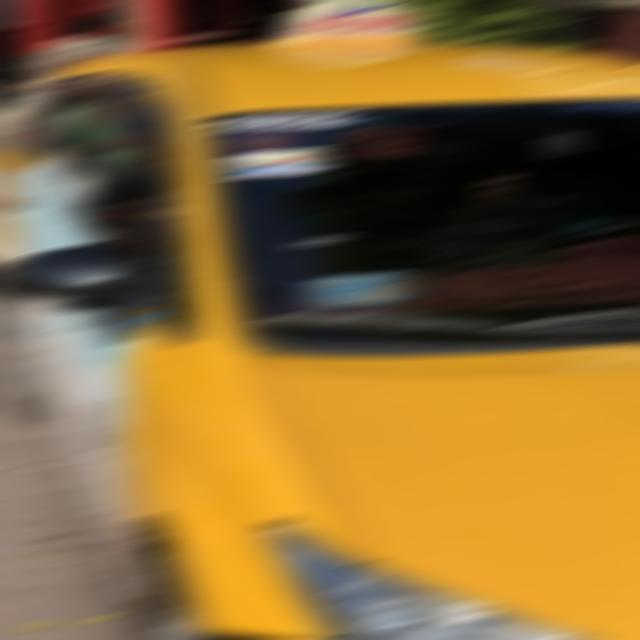Taxi: (0, 2, 640, 638)
